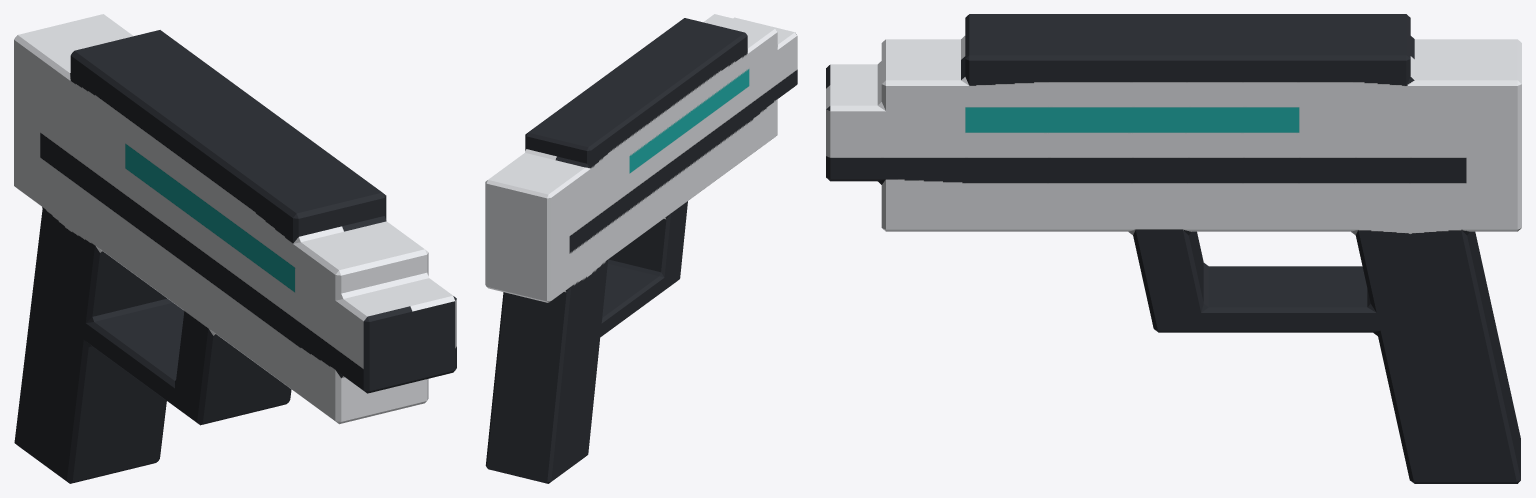
Rendered from Lab_Pistol.fbx.
3 renders of one model, left to right at view 1: azimuth 30°, elevation 25°; view 2: azimuth 150°, elevation 25°; view 3: azimuth 270°, elevation 25°, orthographic. The views are drawn at different scales.
Parts seen in each view (by area): view 1: Lab_Pistol; view 2: Lab_Pistol; view 3: Lab_Pistol.
Part boxes in pixels (x1=…): Lab_Pistol: x1=14, y1=14, x2=456, y2=483; Lab_Pistol: x1=485, y1=14, x2=797, y2=483; Lab_Pistol: x1=826, y1=14, x2=1521, y2=483.
Bounding box in the file's own units: 0.038 × 0.17 × 0.25.
Materials: 1 (1 with a texture image).
